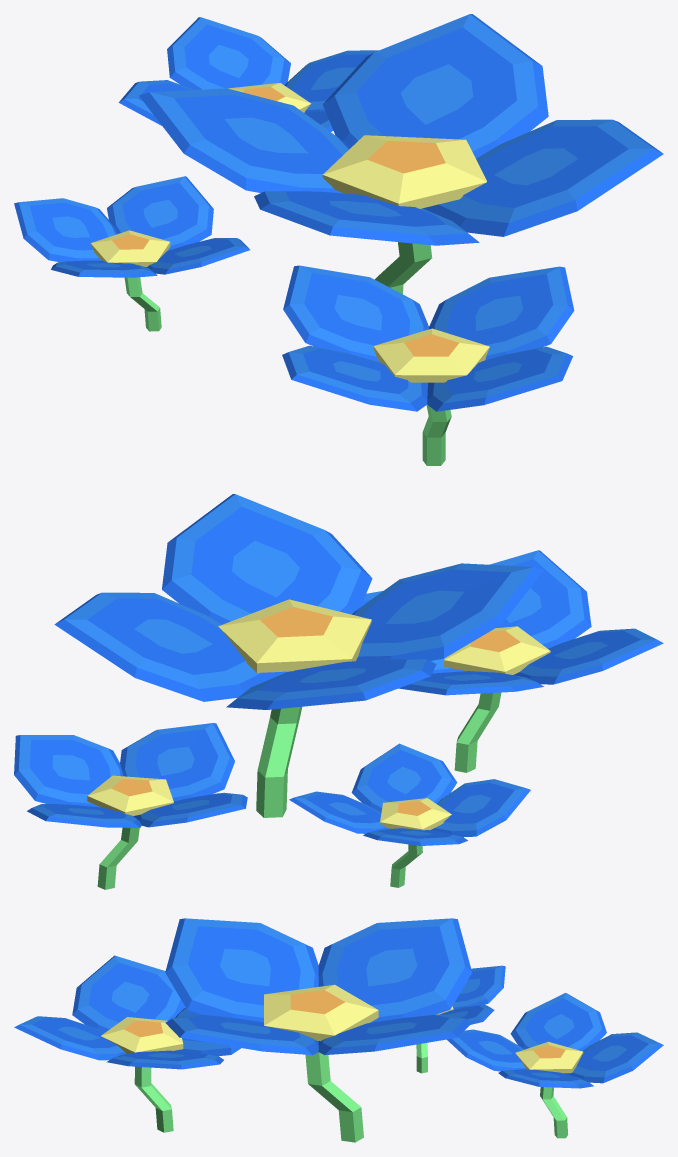
The model's file is Flower 3.fbx.
3 renders of one model, top to bottom at view 1: azimuth 30°, elevation 25°; view 2: azimuth 150°, elevation 25°; view 3: azimuth 270°, elevation 25°, orthographic. The views are drawn at different scales.
Visible parts, largest first — view 1: Flower 3; view 2: Flower 3; view 3: Flower 3.
Part boxes in pixels (x1,y1,x2,y2): Flower 3: [14, 14, 663, 465]; Flower 3: [14, 494, 663, 889]; Flower 3: [14, 918, 663, 1142].
Size of the model in its own units: 98.64 by 49.98 by 164.
